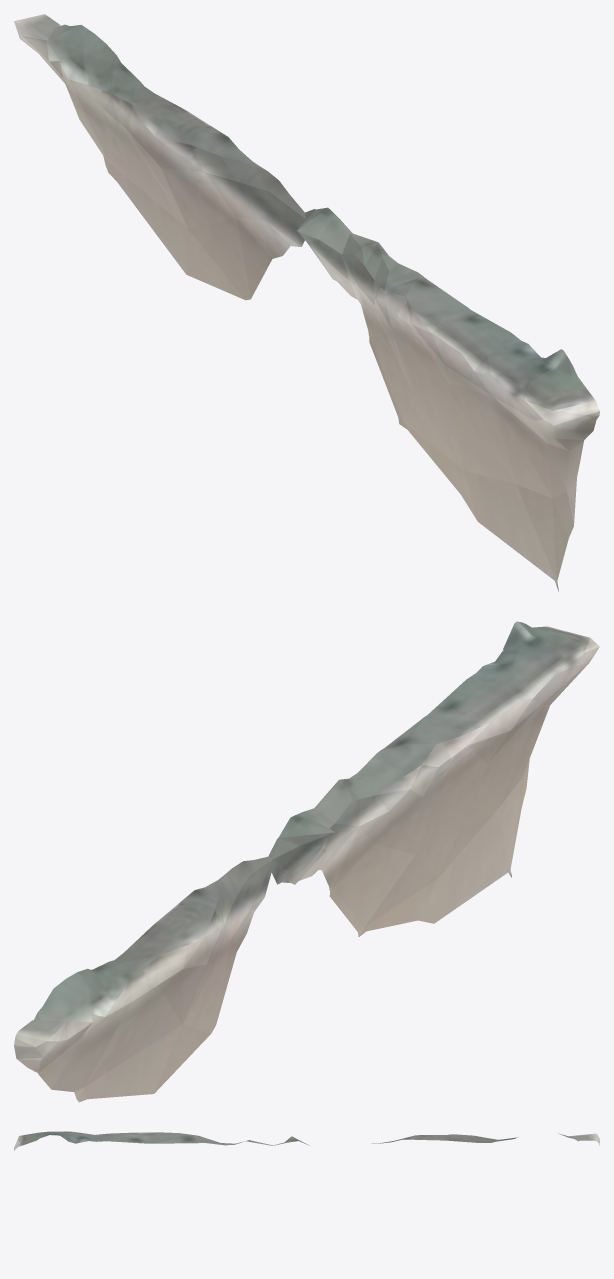
File: Tile_+011_+009_L21_0000003400.glb
The picture shows the model from 3 angles, top to bottom: view 1: azimuth 30°, elevation 25°; view 2: azimuth 150°, elevation 25°; view 3: azimuth 270°, elevation 25°; orthographic projection. The views are drawn at different scales.
Parts seen in each view (by area): view 1: rtc; view 2: rtc; view 3: rtc.
Part boxes in pixels (left/top/right/bottom): rtc: left=14, top=14, right=599, bottom=591; rtc: left=14, top=621, right=599, bottom=1102; rtc: left=14, top=1131, right=599, bottom=1150.
Bounding box in the file's own units: 1.01 × 4.12 × 16.46.
1 material, 1 textured.
